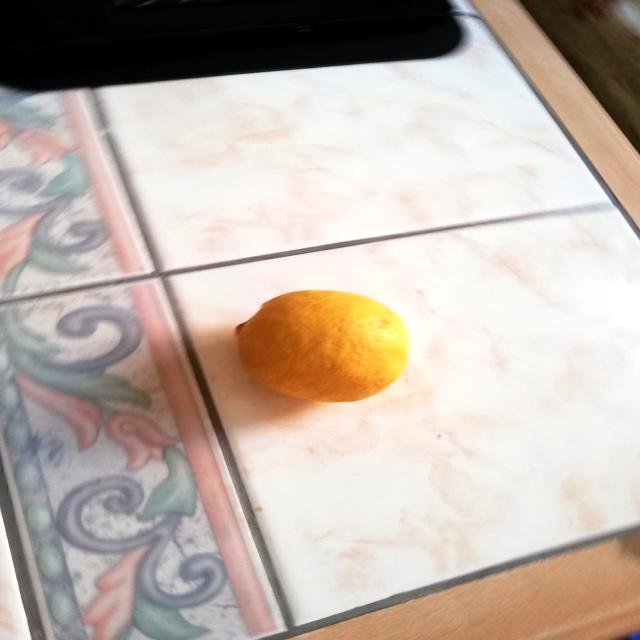lemon: (225, 282, 418, 409)
